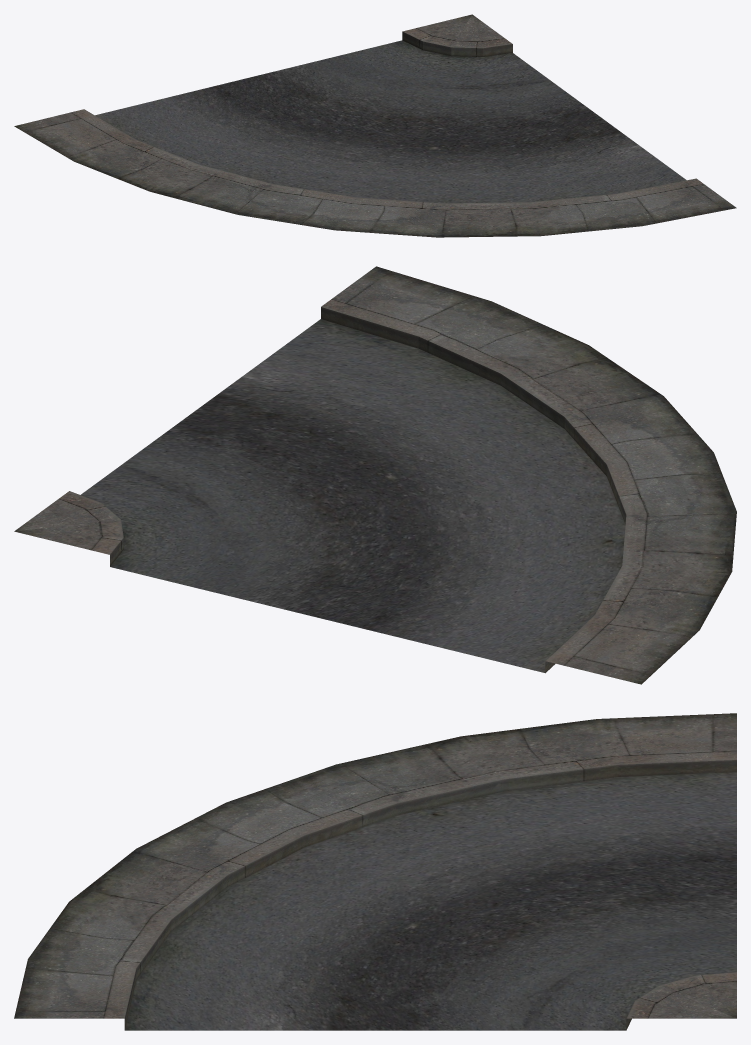
File: Road_set_v1_s_bend_1.001.glb
3 renders of one model, top to bottom at view 1: azimuth 30°, elevation 25°; view 2: azimuth 150°, elevation 25°; view 3: azimuth 270°, elevation 25°, orthographic. The views are drawn at different scales.
Visible parts, largest first — view 1: Road_set_v1_s_bend_1.001; view 2: Road_set_v1_s_bend_1.001; view 3: Road_set_v1_s_bend_1.001.
Part boxes in pixels (left/top/right/bottom): Road_set_v1_s_bend_1.001: left=14, top=14, right=736, bottom=237; Road_set_v1_s_bend_1.001: left=14, top=266, right=736, bottom=684; Road_set_v1_s_bend_1.001: left=14, top=713, right=736, bottom=1030.
Bounding box in the file's own units: 10 × 0.1836 × 10.
Materials: 1 (1 with a texture image).
